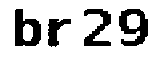2: (81, 6, 115, 53)
9: (118, 7, 153, 50)
b: (12, 7, 44, 48)
r: (45, 17, 75, 50)
